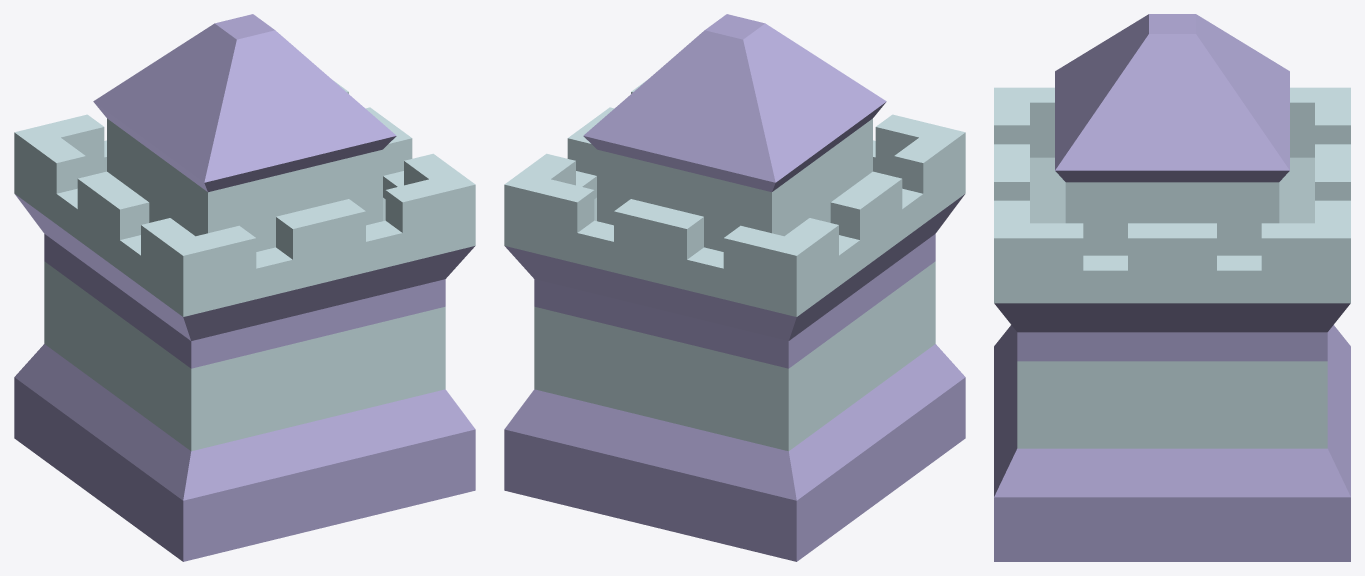
Rendered from towerSquare_sampleA.glb.
3 views of the same model, side by side, from view 1: azimuth 30°, elevation 25°; view 2: azimuth 150°, elevation 25°; view 3: azimuth 270°, elevation 25° (orthographic). The views are drawn at different scales.
Parts seen in each view (by area): view 1: towerSquare_sampleA; view 2: towerSquare_sampleA; view 3: towerSquare_sampleA.
Boxes of the visible parts, x1,y1,x2,y2 form: towerSquare_sampleA: (14,14,475,561); towerSquare_sampleA: (504,14,965,561); towerSquare_sampleA: (994,14,1350,561).
Size of the model in its own units: 1 by 1.43 by 1.
